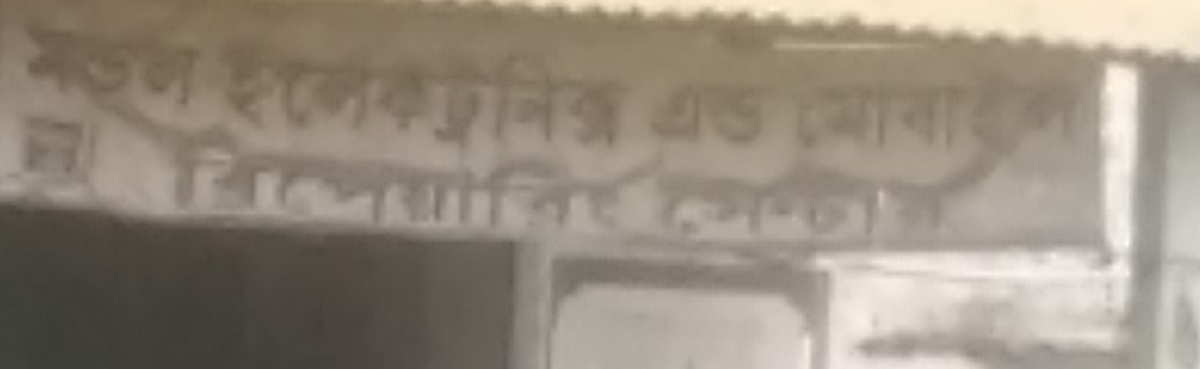text: (225, 38, 240, 162), (241, 38, 256, 162), (257, 38, 272, 162), (273, 38, 288, 162), (289, 38, 304, 162), (305, 38, 320, 162), (321, 38, 336, 162), (337, 38, 352, 162), (353, 38, 368, 162), (369, 38, 384, 162), (385, 38, 400, 162), (401, 38, 416, 162), (417, 38, 432, 162), (433, 38, 448, 162), (449, 38, 464, 162), (465, 38, 480, 162), (481, 38, 496, 162), (497, 38, 512, 162), (513, 38, 528, 162), (529, 38, 544, 162), (545, 38, 560, 162), (561, 38, 576, 162), (577, 38, 592, 162), (593, 38, 608, 162), (609, 38, 624, 162), (177, 125, 192, 243), (193, 125, 208, 243), (209, 125, 224, 243), (225, 125, 240, 243), (241, 125, 256, 243), (257, 125, 272, 243), (273, 125, 288, 243), (289, 125, 304, 243), (305, 125, 320, 243), (321, 125, 336, 243), (337, 125, 352, 243), (353, 125, 368, 243), (369, 125, 384, 243), (385, 125, 400, 243), (401, 125, 416, 243), (417, 125, 432, 243), (433, 125, 448, 243), (449, 125, 464, 243), (465, 125, 480, 243), (481, 125, 496, 243), (497, 125, 512, 243), (513, 125, 528, 243), (529, 125, 544, 243), (545, 125, 560, 243), (561, 125, 576, 243), (577, 125, 592, 243), (593, 125, 608, 243), (609, 125, 624, 243), (801, 63, 816, 162), (817, 63, 832, 162), (833, 63, 848, 162), (849, 63, 864, 162), (865, 63, 880, 162), (881, 63, 896, 162), (897, 63, 912, 162), (913, 63, 928, 162), (929, 63, 944, 162), (945, 63, 960, 162), (961, 63, 976, 162), (977, 63, 992, 162), (993, 63, 1008, 162), (1009, 63, 1024, 162), (1025, 63, 1040, 162), (1041, 63, 1056, 162), (1057, 63, 1072, 162), (33, 21, 48, 110), (49, 21, 64, 110), (65, 21, 80, 110), (81, 21, 96, 110), (97, 21, 112, 110), (113, 21, 128, 110), (129, 21, 144, 110), (145, 21, 160, 110), (161, 21, 176, 110), (177, 21, 192, 110), (657, 164, 672, 245), (673, 164, 688, 245), (689, 164, 704, 245), (705, 164, 720, 245), (721, 164, 736, 245), (737, 164, 752, 245), (753, 164, 768, 245), (769, 164, 784, 245), (785, 164, 800, 245), (801, 164, 816, 245), (817, 164, 832, 245), (833, 164, 848, 245), (849, 164, 864, 245), (865, 164, 880, 245), (881, 164, 896, 245), (897, 164, 912, 245), (913, 164, 928, 245), (929, 164, 944, 245), (33, 111, 48, 188), (49, 111, 64, 188), (65, 111, 80, 188), (81, 111, 96, 188), (657, 77, 672, 149), (673, 77, 688, 149), (689, 77, 704, 149), (705, 77, 720, 149), (721, 77, 736, 149), (737, 77, 752, 149), (753, 77, 768, 149), (19, 111, 32, 188), (625, 38, 633, 162), (21, 21, 32, 110), (769, 77, 782, 149), (1073, 63, 1082, 162), (193, 21, 203, 110), (217, 38, 224, 162), (169, 125, 176, 243), (647, 77, 656, 149), (794, 63, 800, 162), (97, 111, 103, 188), (945, 164, 949, 245), (625, 125, 627, 243)
